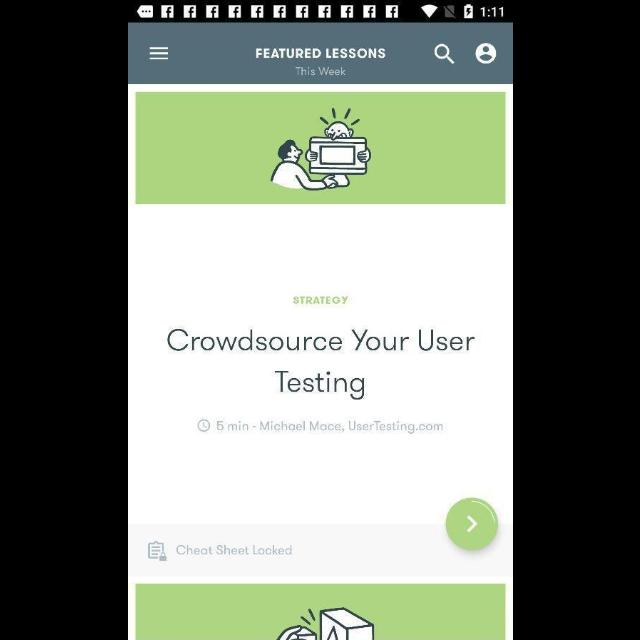button: (444, 498, 498, 550)
icon: (474, 43, 496, 65), (433, 44, 455, 66), (147, 540, 167, 562), (148, 47, 168, 61), (196, 420, 210, 432)
image: (136, 93, 504, 205), (135, 584, 505, 640)
text: (167, 329, 475, 401), (216, 421, 442, 435), (255, 48, 385, 60), (176, 544, 292, 556), (294, 67, 346, 77), (293, 296, 347, 304)
toolbar: (128, 24, 512, 84)
uppertaskbar: (128, 1, 512, 23)
